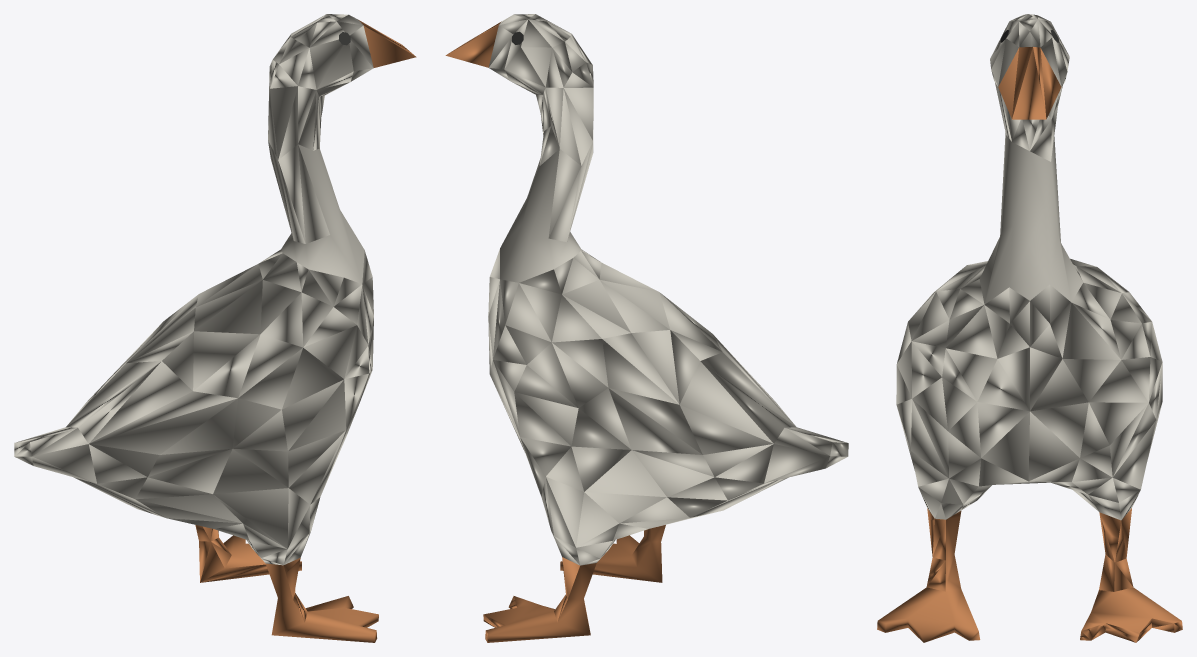
File: geese.fbx
3 renders of one model, left to right at view 1: azimuth 30°, elevation 25°; view 2: azimuth 150°, elevation 25°; view 3: azimuth 270°, elevation 25°, orthographic. The views are drawn at different scales.
Parts seen in each view (by area): view 1: StandardTurret; view 2: StandardTurret; view 3: StandardTurret.
Part boxes in pixels (bbox=[...]): StandardTurret: bbox=[14, 14, 416, 642]; StandardTurret: bbox=[445, 14, 848, 642]; StandardTurret: bbox=[877, 14, 1182, 642].
Size of the model in its own units: 241 by 332 by 147.
